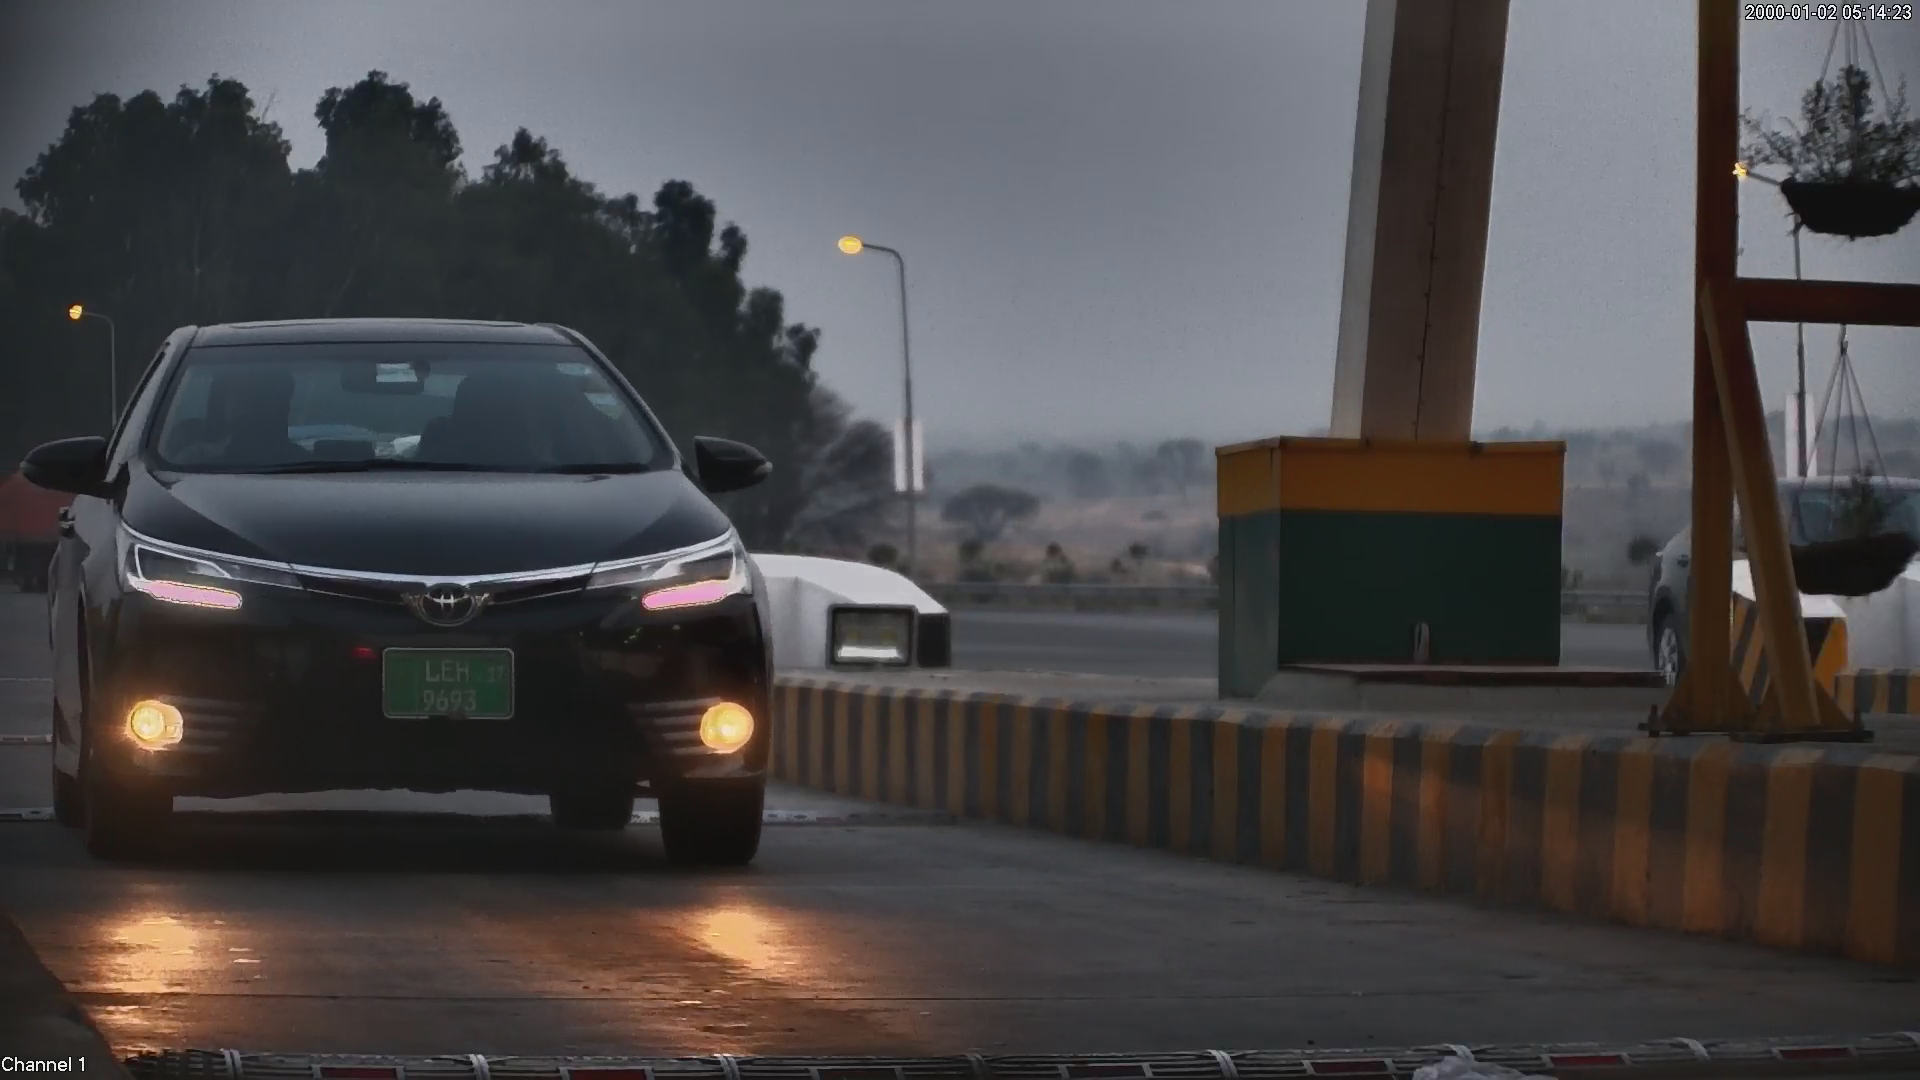Number_Plate: (366, 637, 529, 732)
